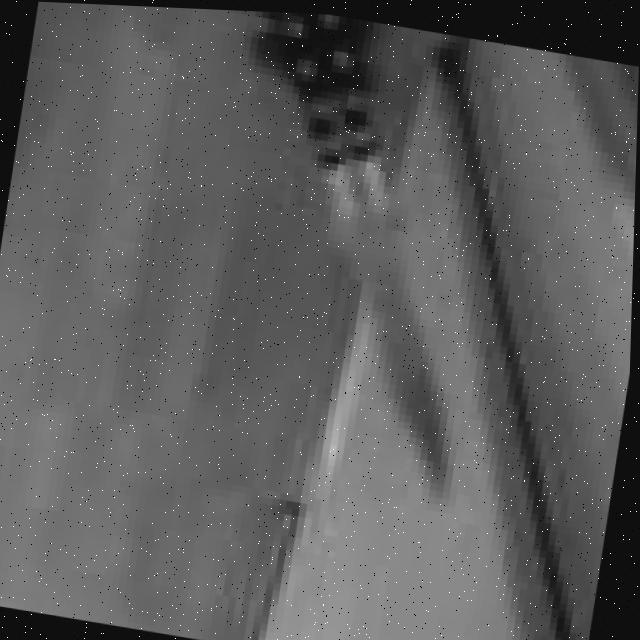knife: (201, 7, 518, 502)
